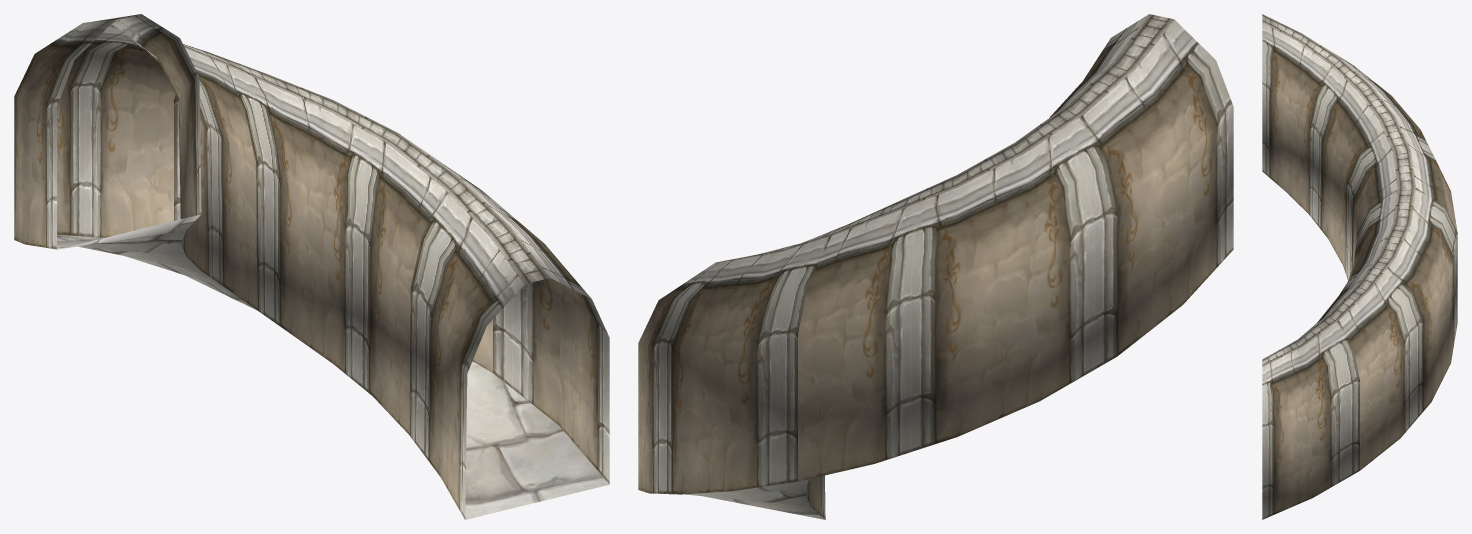
Rendered from stormwind_128.fbx.
3 renders of one model, left to right at view 1: azimuth 30°, elevation 25°; view 2: azimuth 150°, elevation 25°; view 3: azimuth 270°, elevation 25°, orthographic. The views are drawn at different scales.
Parts seen in each view (by area): view 1: stormwind_128_67, stormwind_128_52, stormwind_128_40; view 2: stormwind_128_67, stormwind_128_40, stormwind_128_52; view 3: stormwind_128_67, stormwind_128_40.
Part boxes in pixels (x1=…): stormwind_128_67: x1=14, y1=14, x2=609, y2=519; stormwind_128_52: x1=57, y1=214, x2=609, y2=519; stormwind_128_40: x1=94, y1=14, x2=549, y2=283; stormwind_128_67: x1=638, y1=14, x2=1233, y2=519; stormwind_128_40: x1=717, y1=14, x2=1173, y2=262; stormwind_128_52: x1=685, y1=479, x2=824, y2=519; stormwind_128_67: x1=1262, y1=22, x2=1457, y2=519; stormwind_128_40: x1=1262, y1=14, x2=1415, y2=366.
Size of the model in its own units: 15.39 by 15.59 by 7.7.
